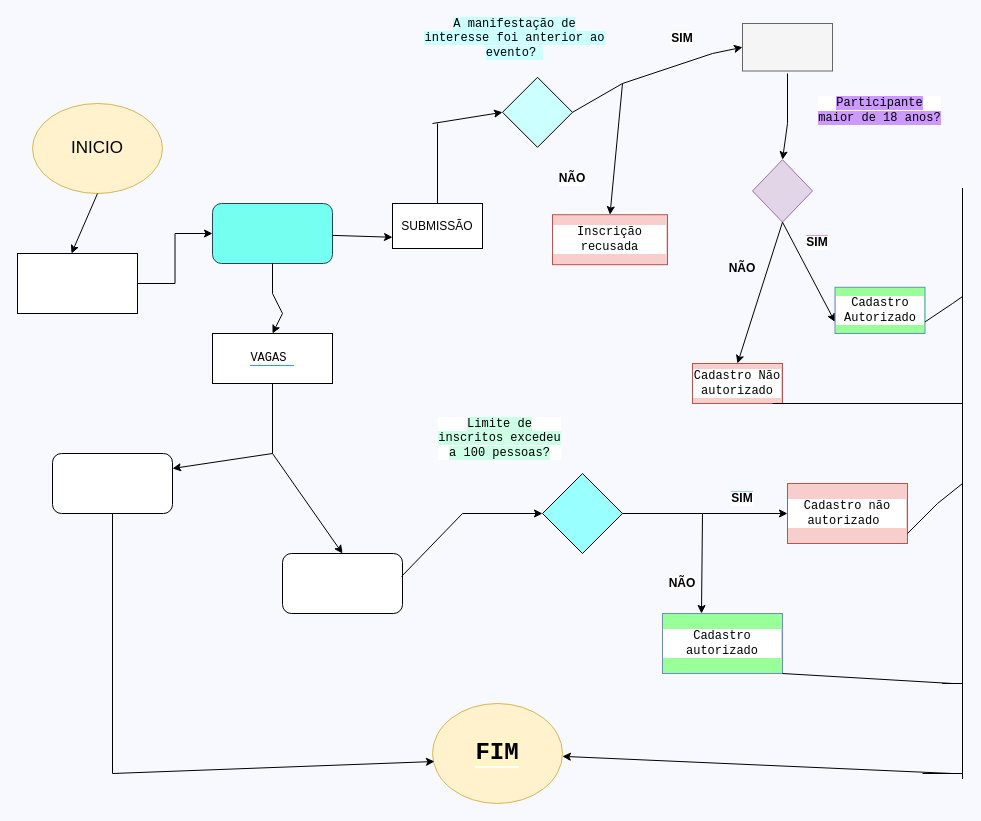
Image size: 981x821. Some labels were removed from this diagram. The box of each missing label's shape, as (x1, y1, x2, y2) in pixels:
Abertura de inscrição para o evento: (16, 252, 138, 314)
DATA DO EVENTO: (212, 202, 332, 264)
Incrição em analise: (742, 22, 832, 71)
Palestrantes: (52, 452, 172, 514)
Participantes: (282, 552, 402, 614)
